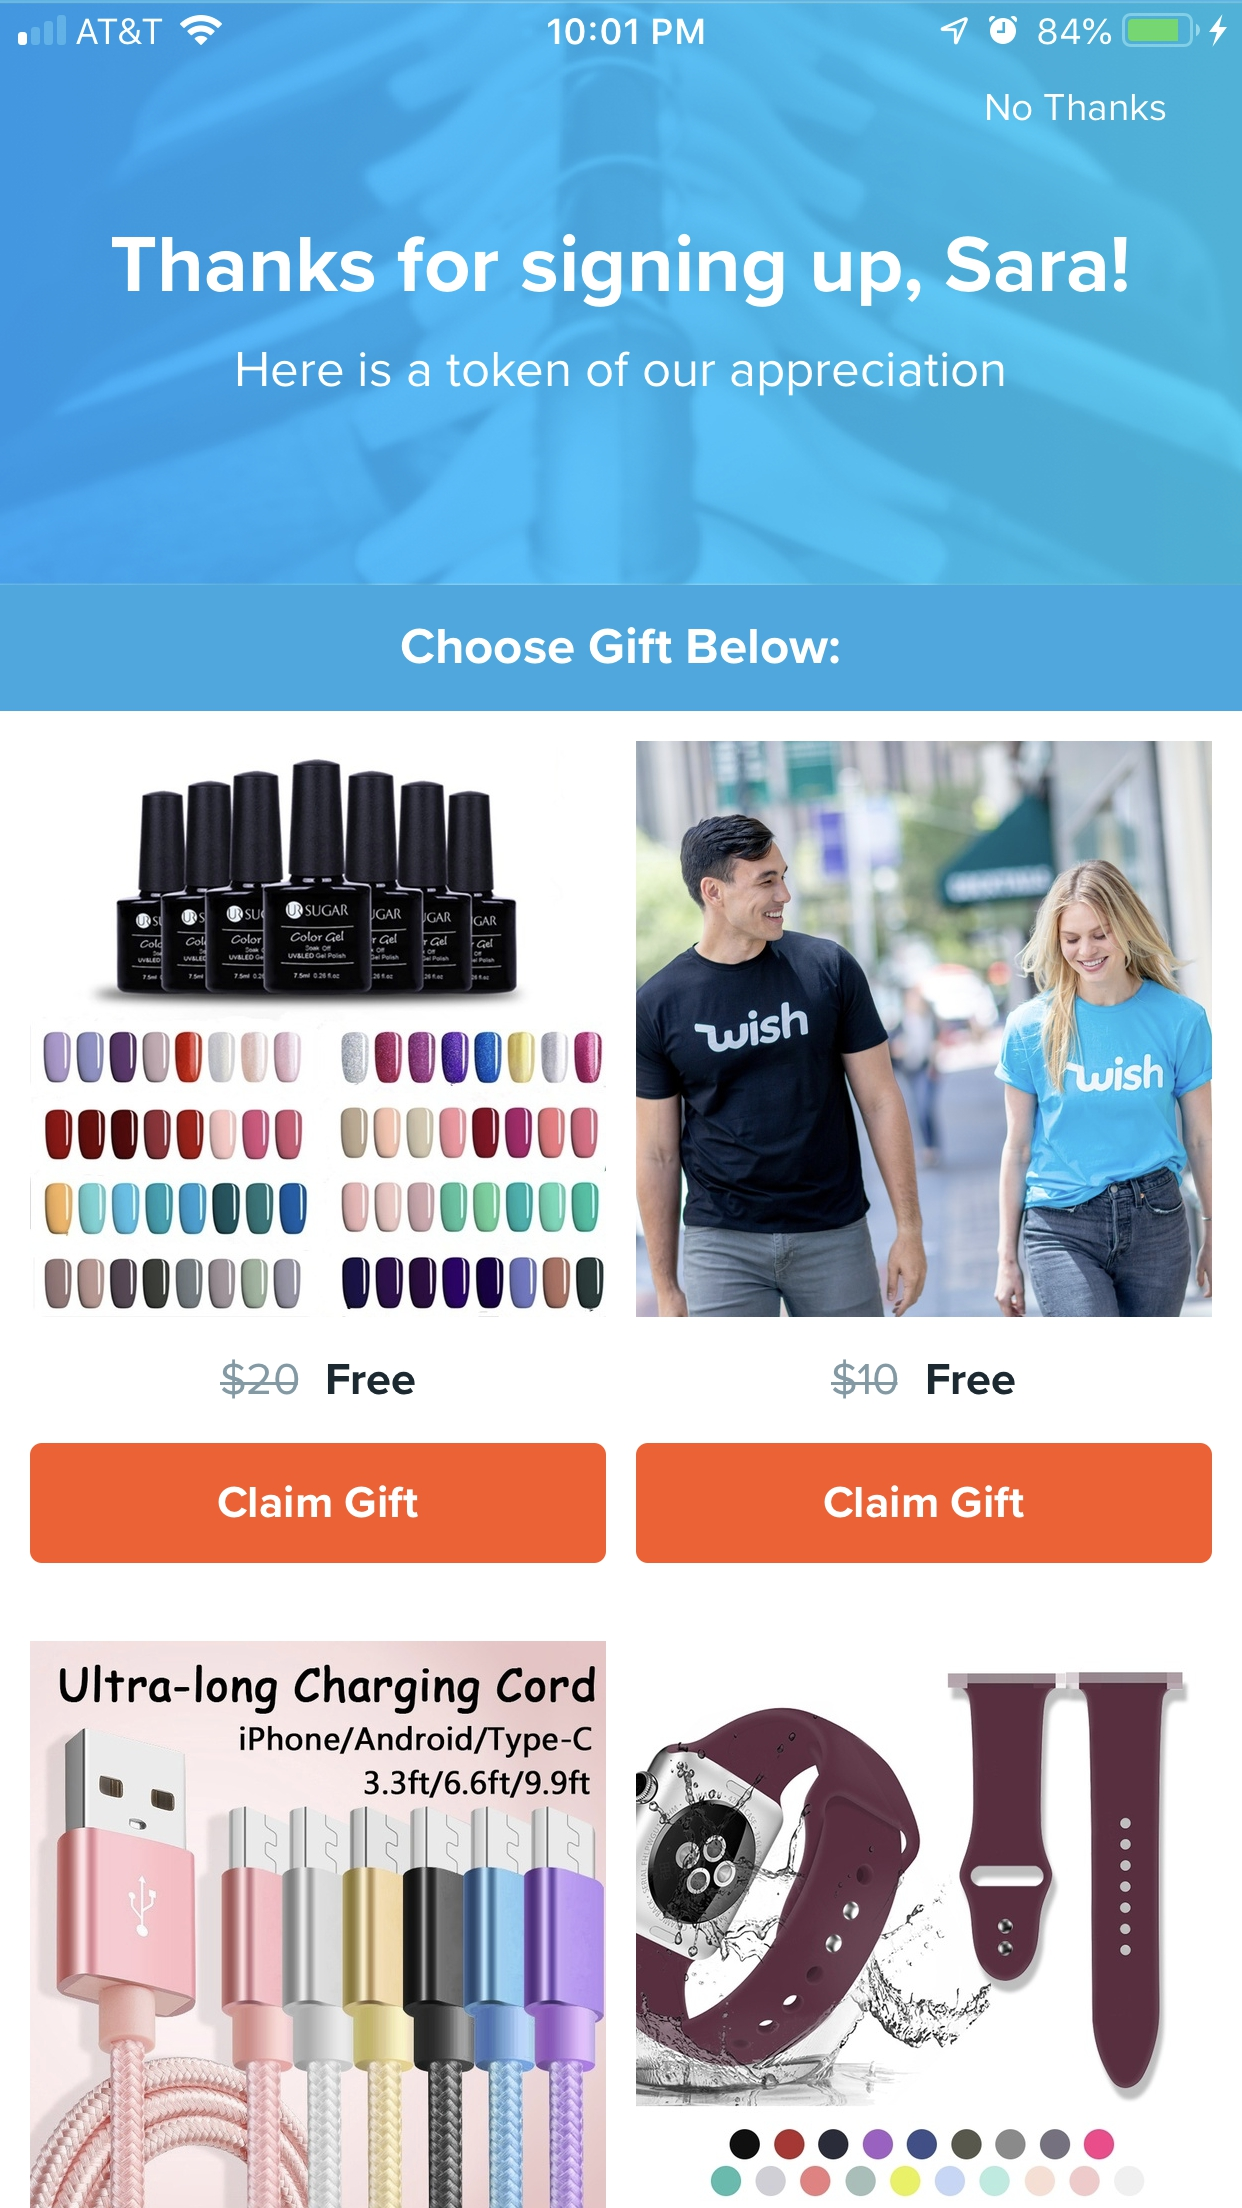Image: (635, 742, 1212, 1316), (30, 1641, 607, 2208), (44, 760, 607, 1312), (635, 1673, 1187, 2197)
Text: (111, 234, 1128, 309), (237, 350, 1005, 397), (400, 626, 840, 666), (986, 94, 1166, 123), (220, 1357, 300, 1400), (927, 1363, 1016, 1397), (328, 1363, 416, 1397), (830, 1359, 899, 1400)
TextButton: (635, 1444, 1213, 1565), (30, 1444, 607, 1563)
UpperTaskBar: (2, 2, 1242, 49)
